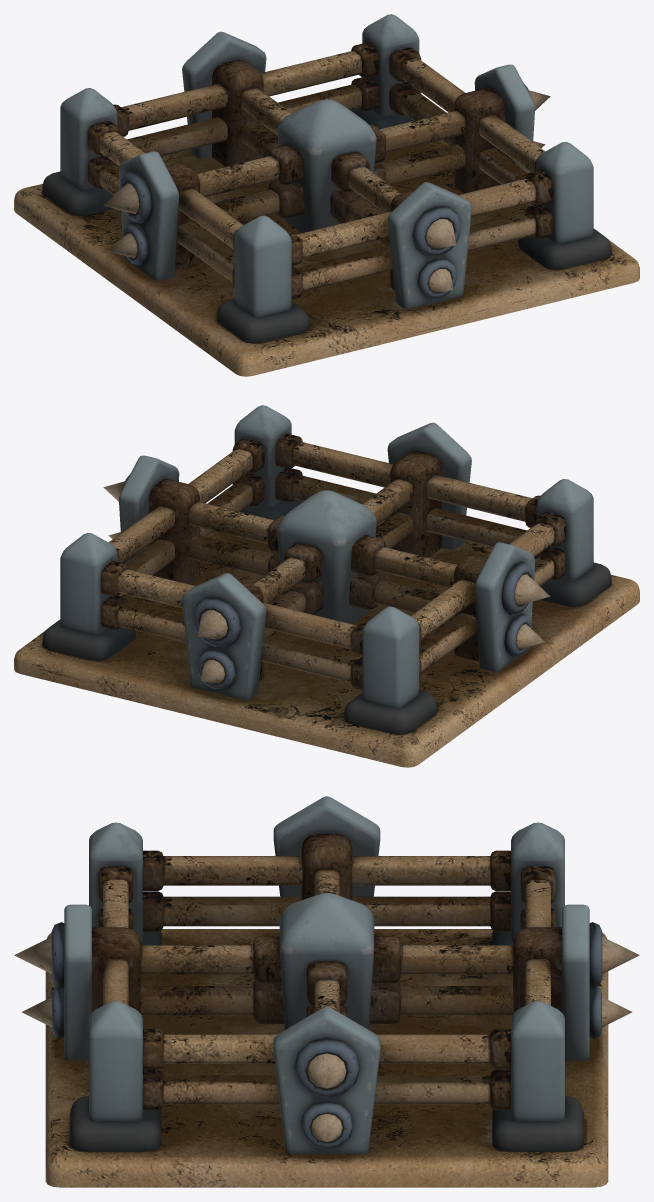
The model's file is Obstacle-12.fbx.
3 views of the same model, one above another, from view 1: azimuth 30°, elevation 25°; view 2: azimuth 150°, elevation 25°; view 3: azimuth 270°, elevation 25° (orthographic). The views are drawn at different scales.
Visible parts, largest first — view 1: Obstacle-12.001; view 2: Obstacle-12.001; view 3: Obstacle-12.001.
Part boxes in pixels (x1,y1,x2,y2): Obstacle-12.001: (14, 14, 639, 376); Obstacle-12.001: (14, 405, 639, 767); Obstacle-12.001: (14, 796, 639, 1187).
Bounding box in the file's own units: 2.22 × 0.6792 × 2.22.
